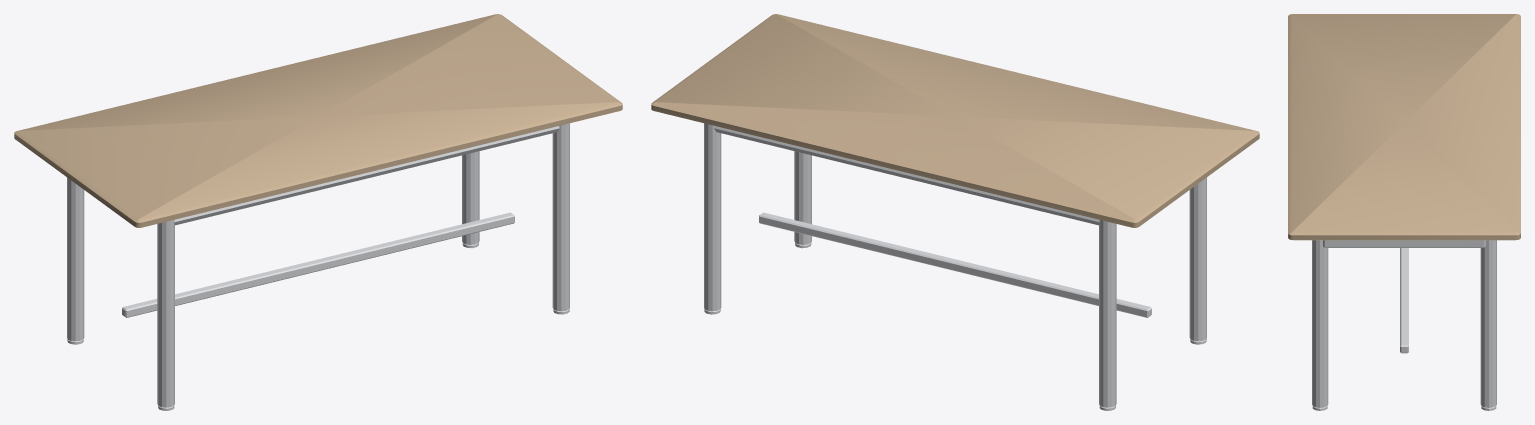
The model's file is office-lobby-and-facilities-canteen-table-6-seat-e4a98815__26222.glb.
3 views of the same model, side by side, from view 1: azimuth 30°, elevation 25°; view 2: azimuth 150°, elevation 25°; view 3: azimuth 270°, elevation 25° (orthographic). The views are drawn at different scales.
Visible parts, largest first — view 1: canteen-table-6-seat; view 2: canteen-table-6-seat; view 3: canteen-table-6-seat.
Boxes of the visible parts, x1,y1,x2,y2 form: canteen-table-6-seat: [14, 14, 622, 410]; canteen-table-6-seat: [651, 14, 1259, 410]; canteen-table-6-seat: [1288, 14, 1520, 410].
Size of the model in its own units: 1.8 by 0.7401 by 0.7999.
